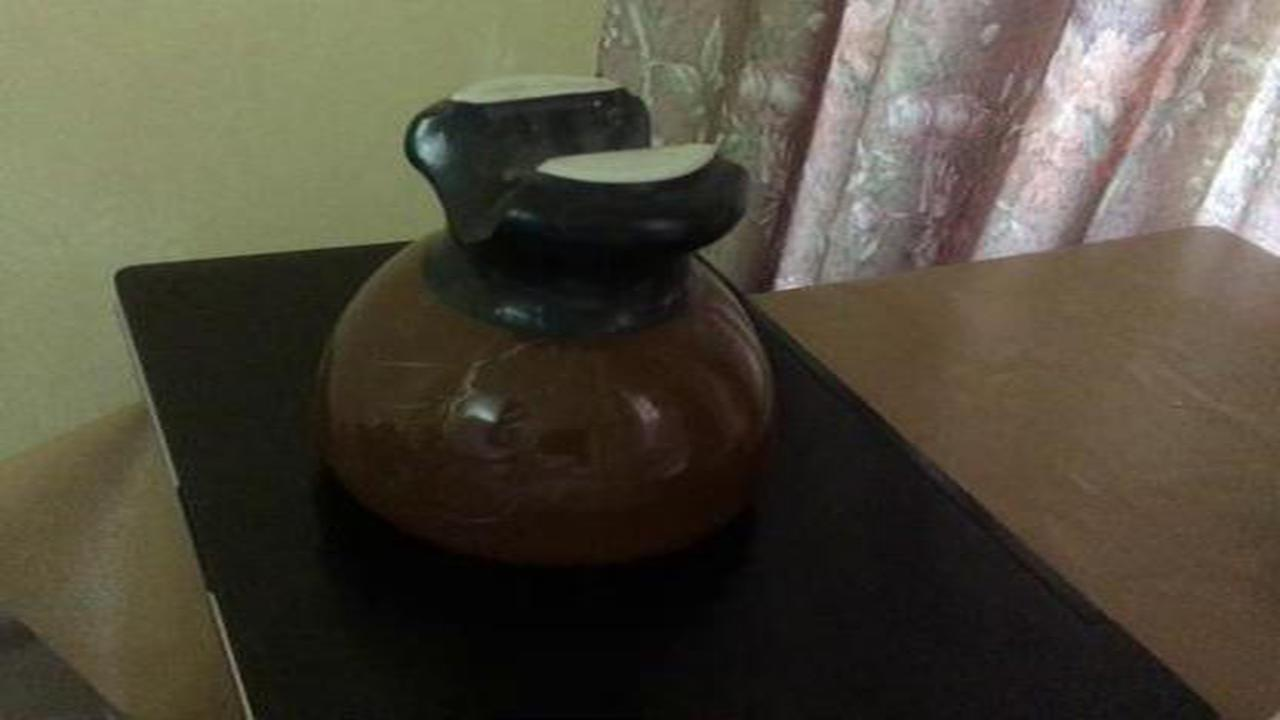insulator_pin: (293, 56, 825, 596)
